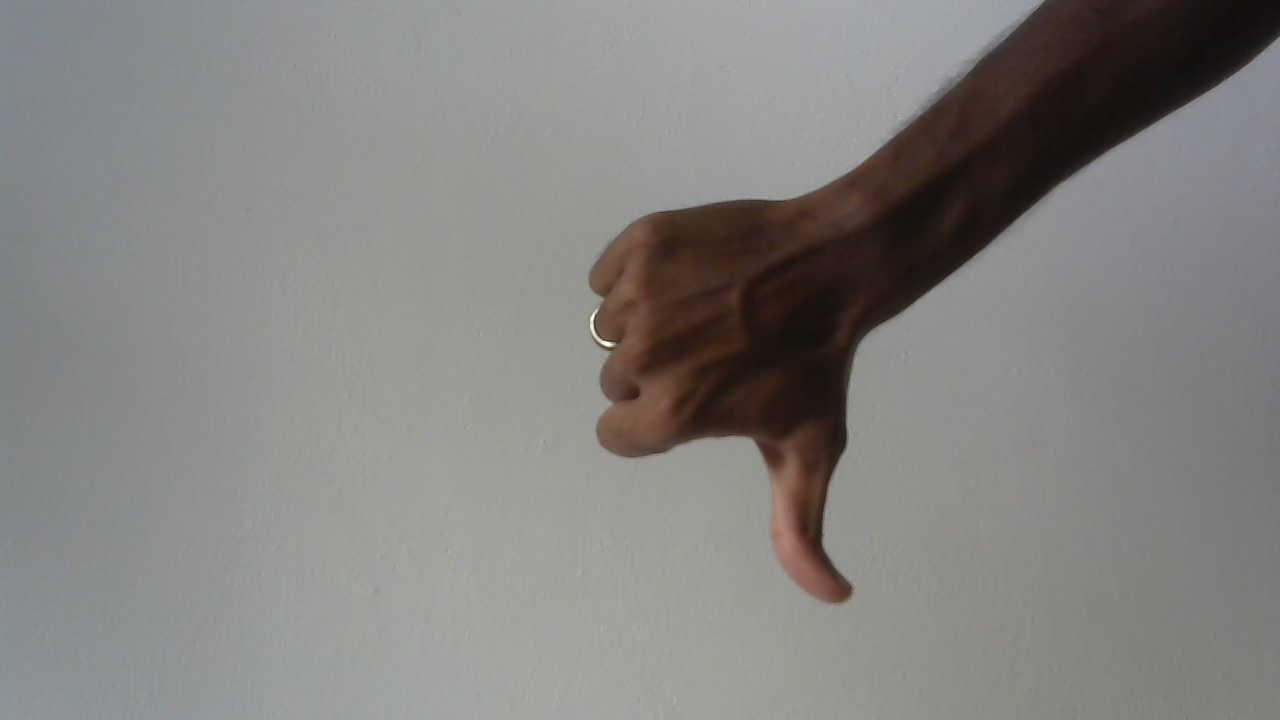thumbsdown: (573, 186, 902, 625)
